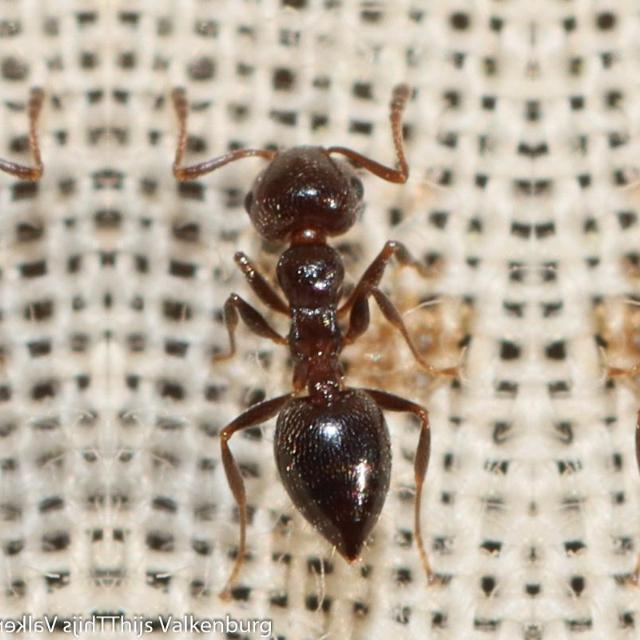Crematogaster: (213, 85, 433, 559)
